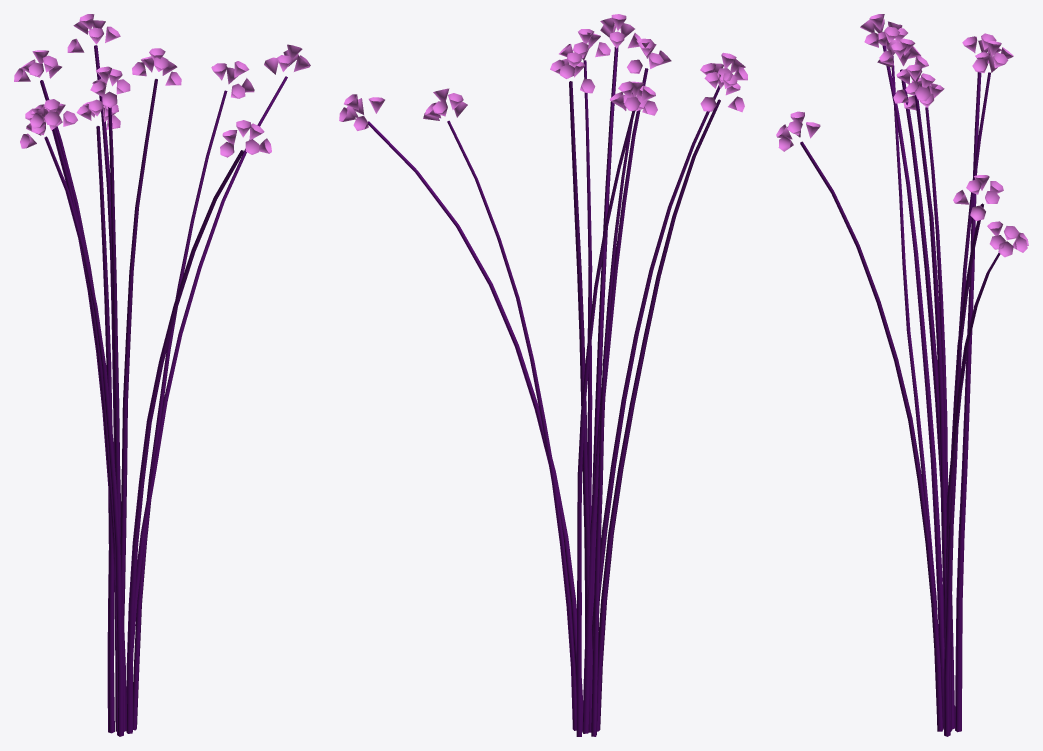
The model's file is flower2.FBX.
The picture shows the model from 3 angles, left to right: view 1: azimuth 30°, elevation 25°; view 2: azimuth 150°, elevation 25°; view 3: azimuth 270°, elevation 25°; orthographic projection. The views are drawn at different scales.
Visible parts, largest first — view 1: Foliage001; view 2: Foliage001; view 3: Foliage001.
Boxes of the visible parts, x1,y1,x2,y2 form: Foliage001: (14,14,310,736); Foliage001: (339,14,747,736); Foliage001: (776,14,1028,736).
Bounding box in the file's own units: 19.23 × 37.42 × 12.54.
